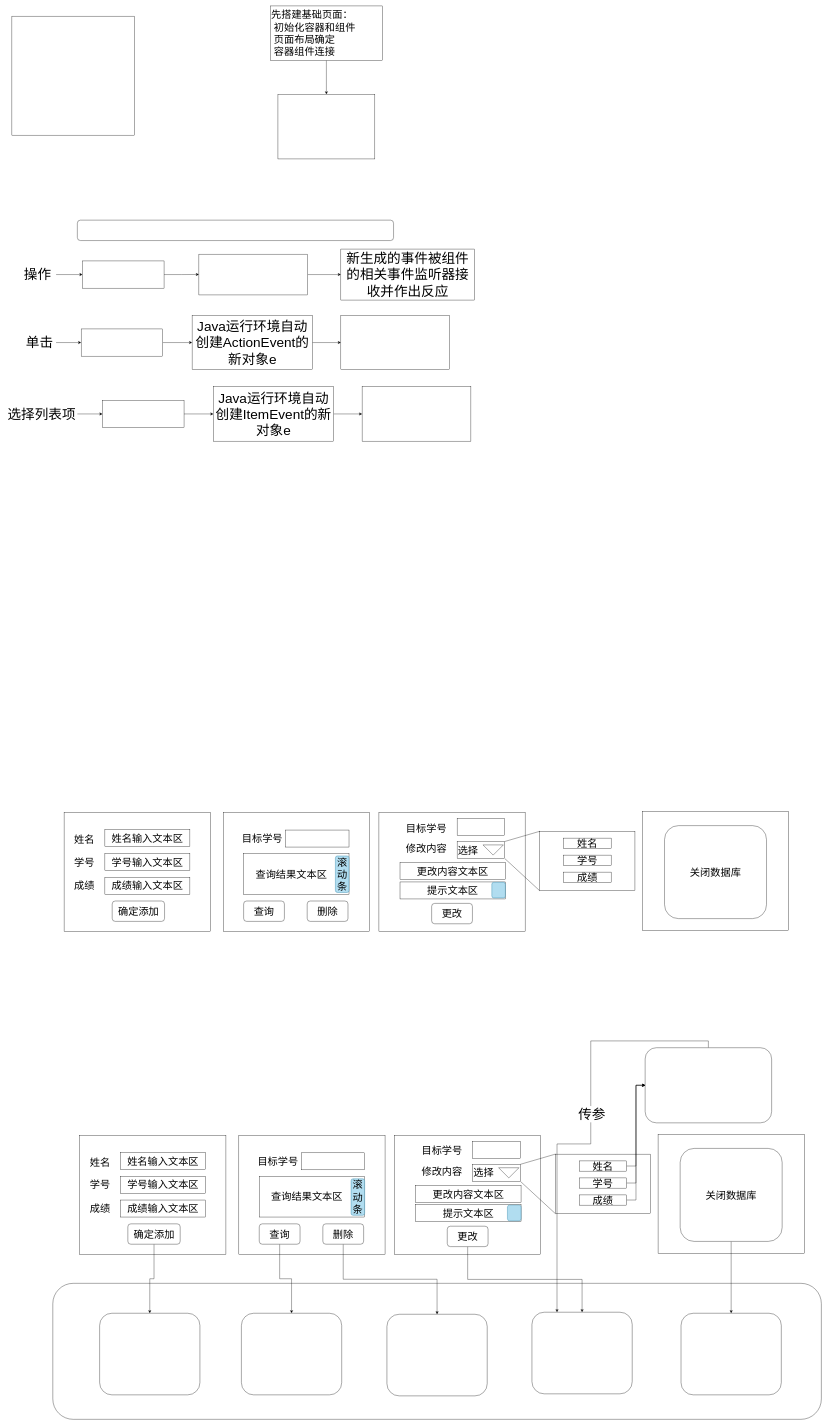
Some shapes in this 827 by 1425 pixel diagram are drawn without their labels. Here are the shapes that lost their labels. From the top down, the centre of each, then its label:
point 73,75: 1个选项卡窗格 3个JPane 6个文本区 4个按钮 1个下拉列表 1个按钮监听器 1个复选框监听器
point 326,126: 完善监听器功能（一个一个测试）
point 235,230: 组件被操作后产生的事件类型决定了它的监听器类型
point 123,274: 组件(事件源)
point 253,274: Java运行环境自动生成相应事件
point 122,342: 按钮a
point 395,342: 按钮a的ActionLisenter接收到e,并作出反应
point 143,414: 下拉列表a
point 416,413: 下拉列表a的 ItemLisenter接收到e,并作出反应
point 708,1085: 判断选取的内容，并将内容记录到窗口类的某个参数上，方便更改按钮更改所选内容
point 149,1354: 监听器：点击后把各个文本中的String读取到，然后输入到数据库中，作为一条新元组
point 291,1354: 监听器：点击后查询相关元组，并在结果文本区显示，查不到给出提示
point 437,1355: 监听器：点击后删除相关元组，提示删除结果（成功或失败）
point 582,1353: 监听器：可以判断选择修改的是哪类对象，并做出更改，提示更改成功或失败
point 731,1354: 监听器：关闭数据库连接
